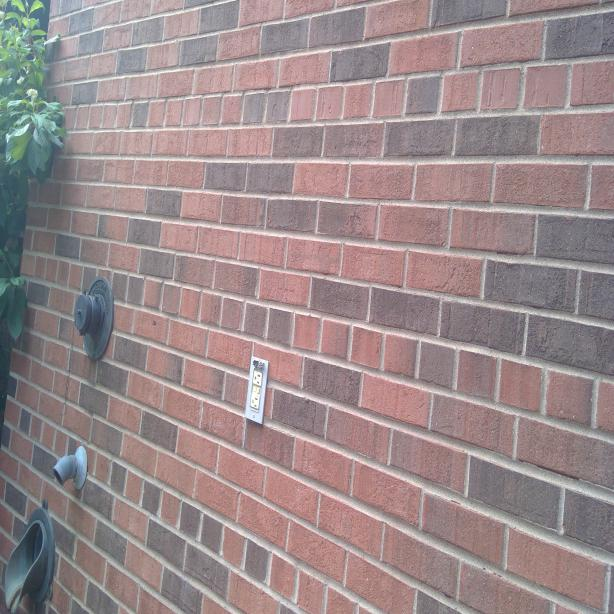typeb: (250, 393, 259, 411), (252, 370, 262, 386)
